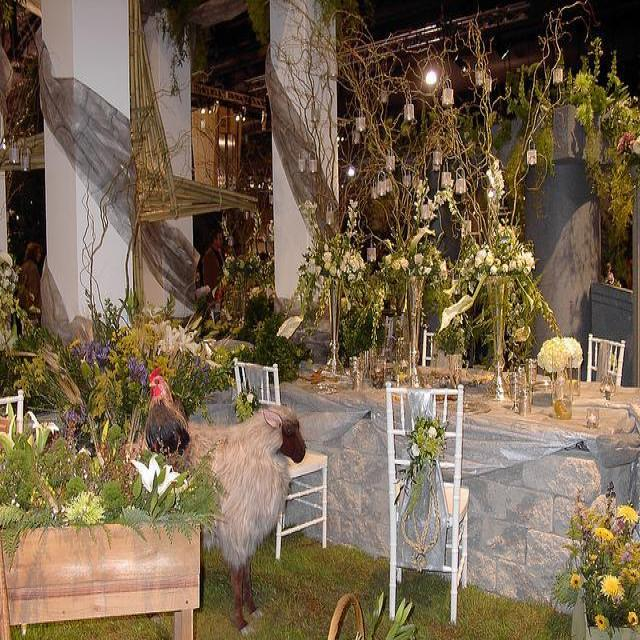Sheep: (194, 407, 310, 628)
